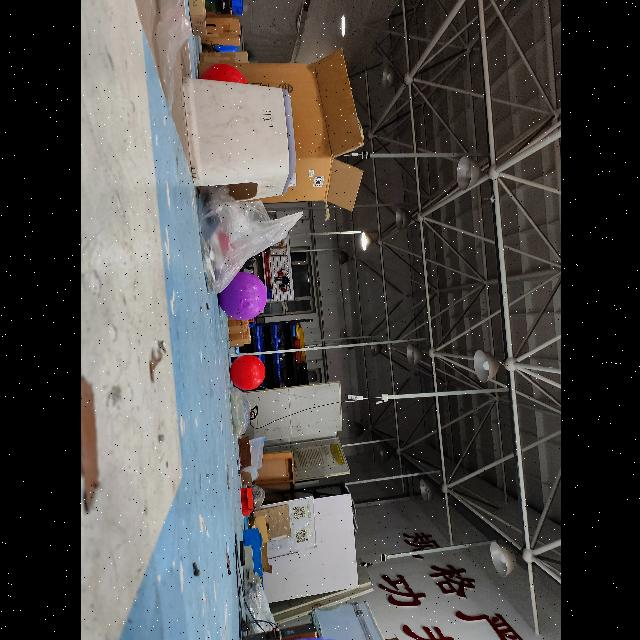P: (217, 271, 266, 321)
R: (196, 63, 248, 115), (228, 352, 266, 390)
